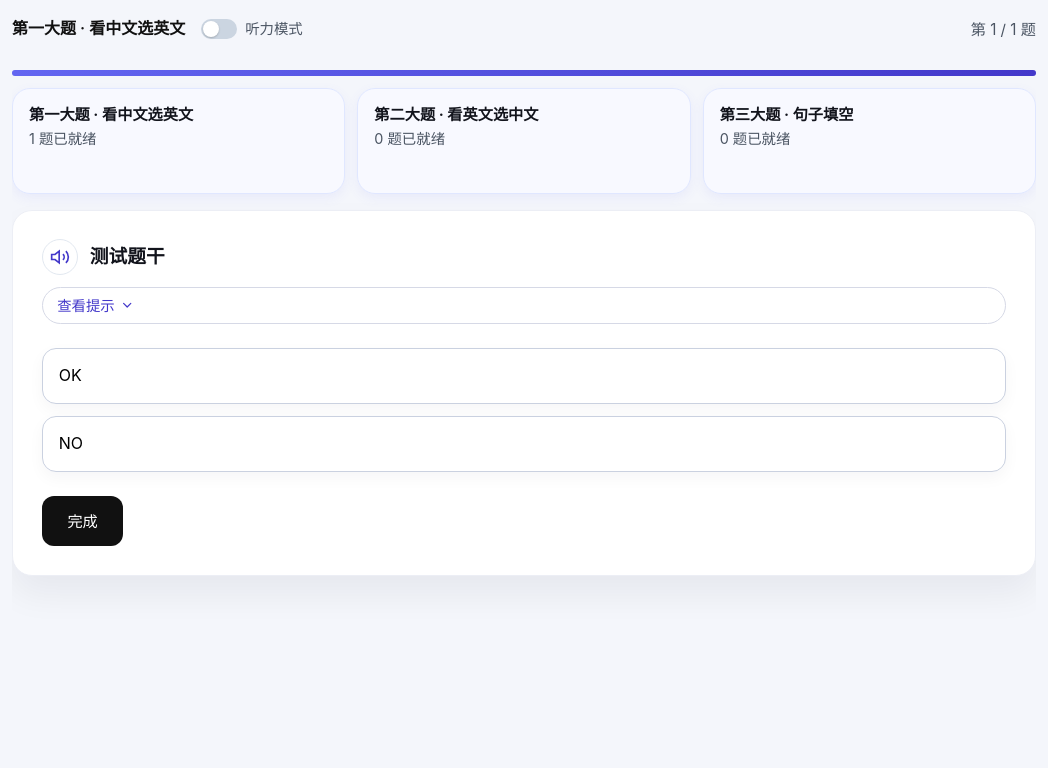
it: QuizPage › 接口失败时会展示兜底错误
Click the button "OK".
click(70, 375)  # box left=42, top=348, right=1006, bottom=404
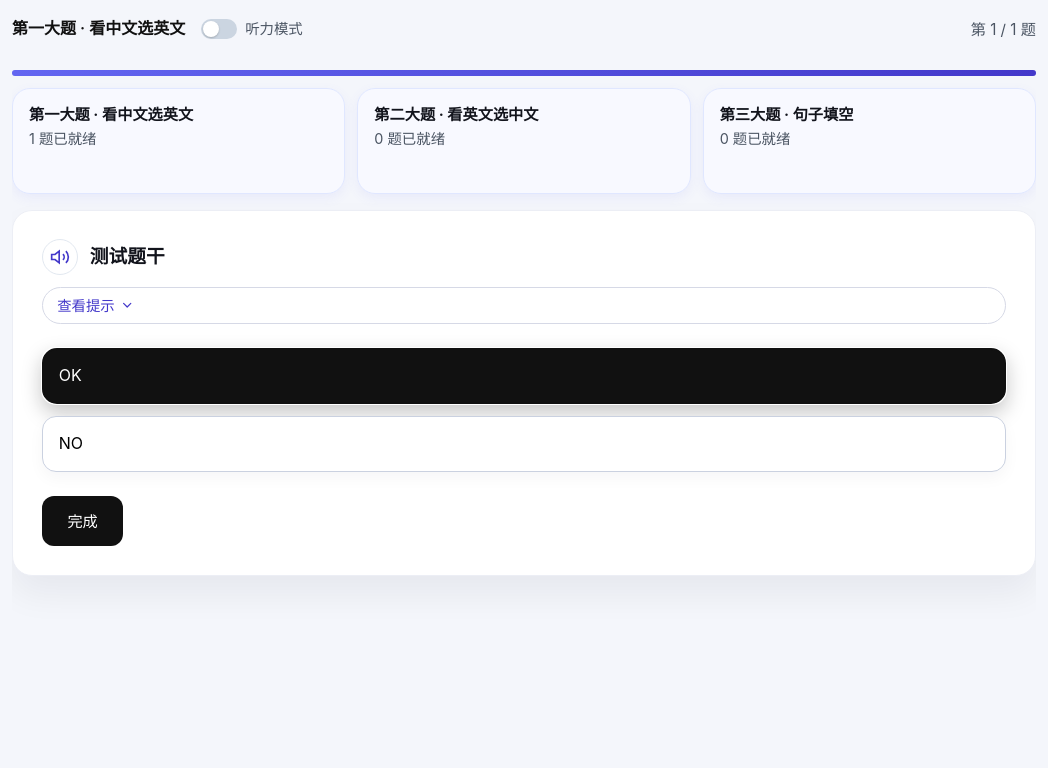
Click the button "完成".
click(83, 521)  # box left=42, top=496, right=123, bottom=546
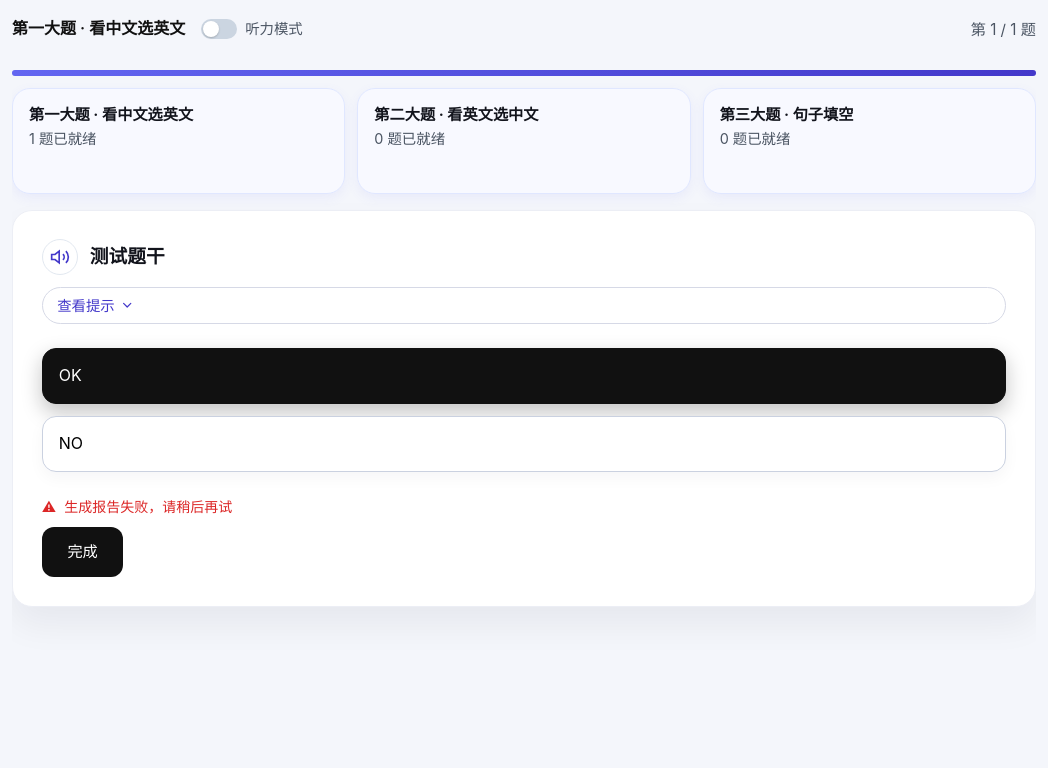
Now the text "生成报告失败，请稍后再试" is shown, box left=64, top=498, right=232, bottom=515
